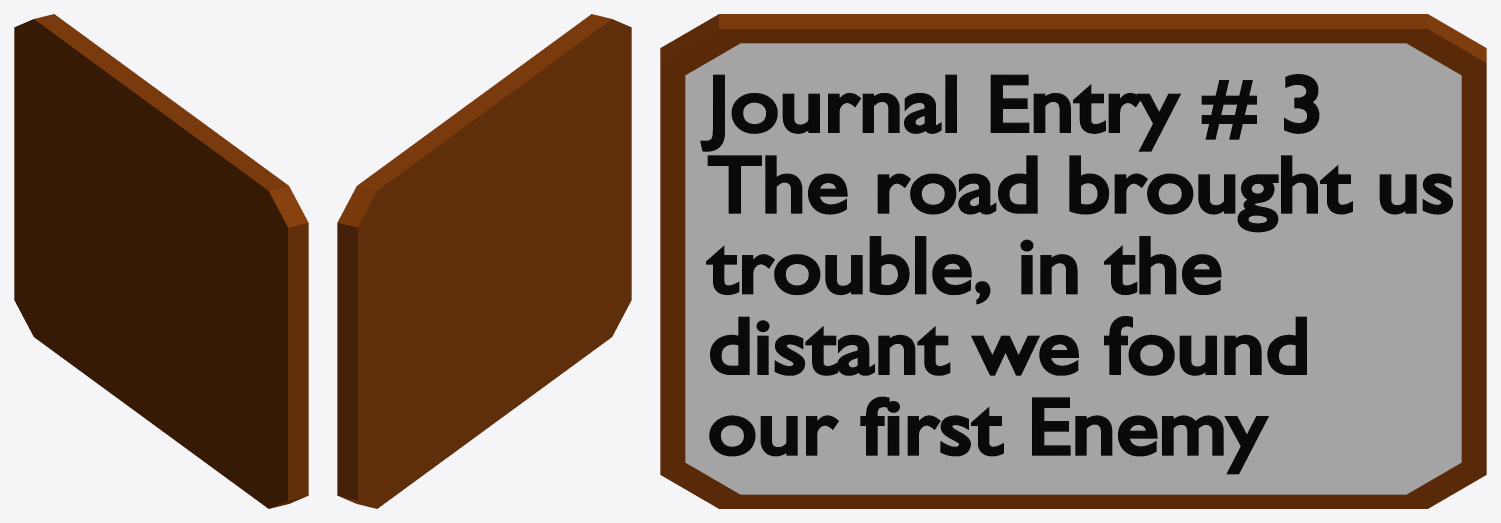
File: CODE 3.fbx
The picture shows the model from 3 angles, left to right: view 1: azimuth 30°, elevation 25°; view 2: azimuth 150°, elevation 25°; view 3: azimuth 270°, elevation 25°; orthographic projection. The views are drawn at different scales.
Parts seen in each view (by area): view 1: sign Text.002; view 2: sign Text.002; view 3: sign Text.002.
Boxes of the visible parts, x1=… form: sign Text.002: x1=14, y1=14, x2=308, y2=508; sign Text.002: x1=337, y1=14, x2=631, y2=508; sign Text.002: x1=660, y1=14, x2=1486, y2=508.
Bounding box in the file's own units: 3.89 × 53.4 × 83.29.
